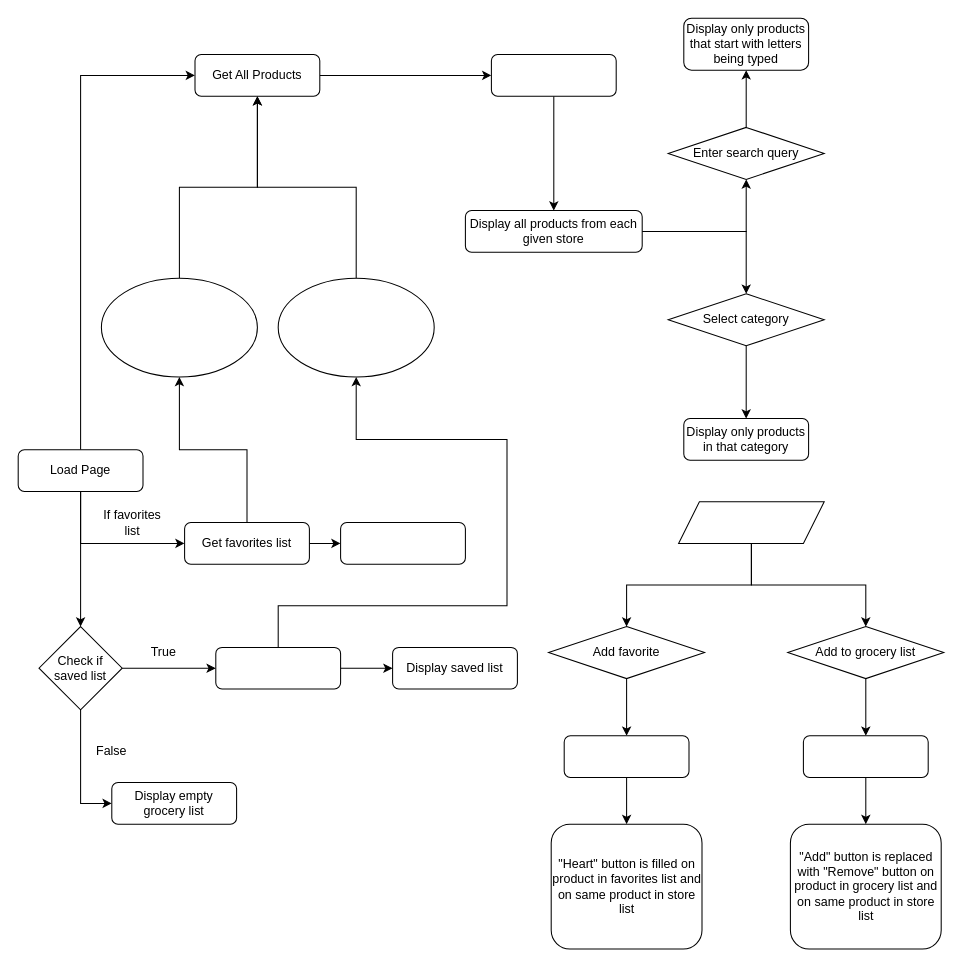
This 962x967 diagram has some shape labels left out. Each missing label, with the centre of its shape:
"Display favorites list" belongs at [402,543].
"Get saved list" belongs at [278,667].
"Mark products on user's favorites list as favorited (filled heart)" belongs at [178,327].
"Mark products on user's saved list as already saved (remove icon)" belongs at [355,327].
"Product Actions" belongs at [751,522].
"Product displayed in favorites list" belongs at [626,756].
"Product displayed in grocery list" belongs at [865,756].
"Sort by store name" belongs at [553,75].
